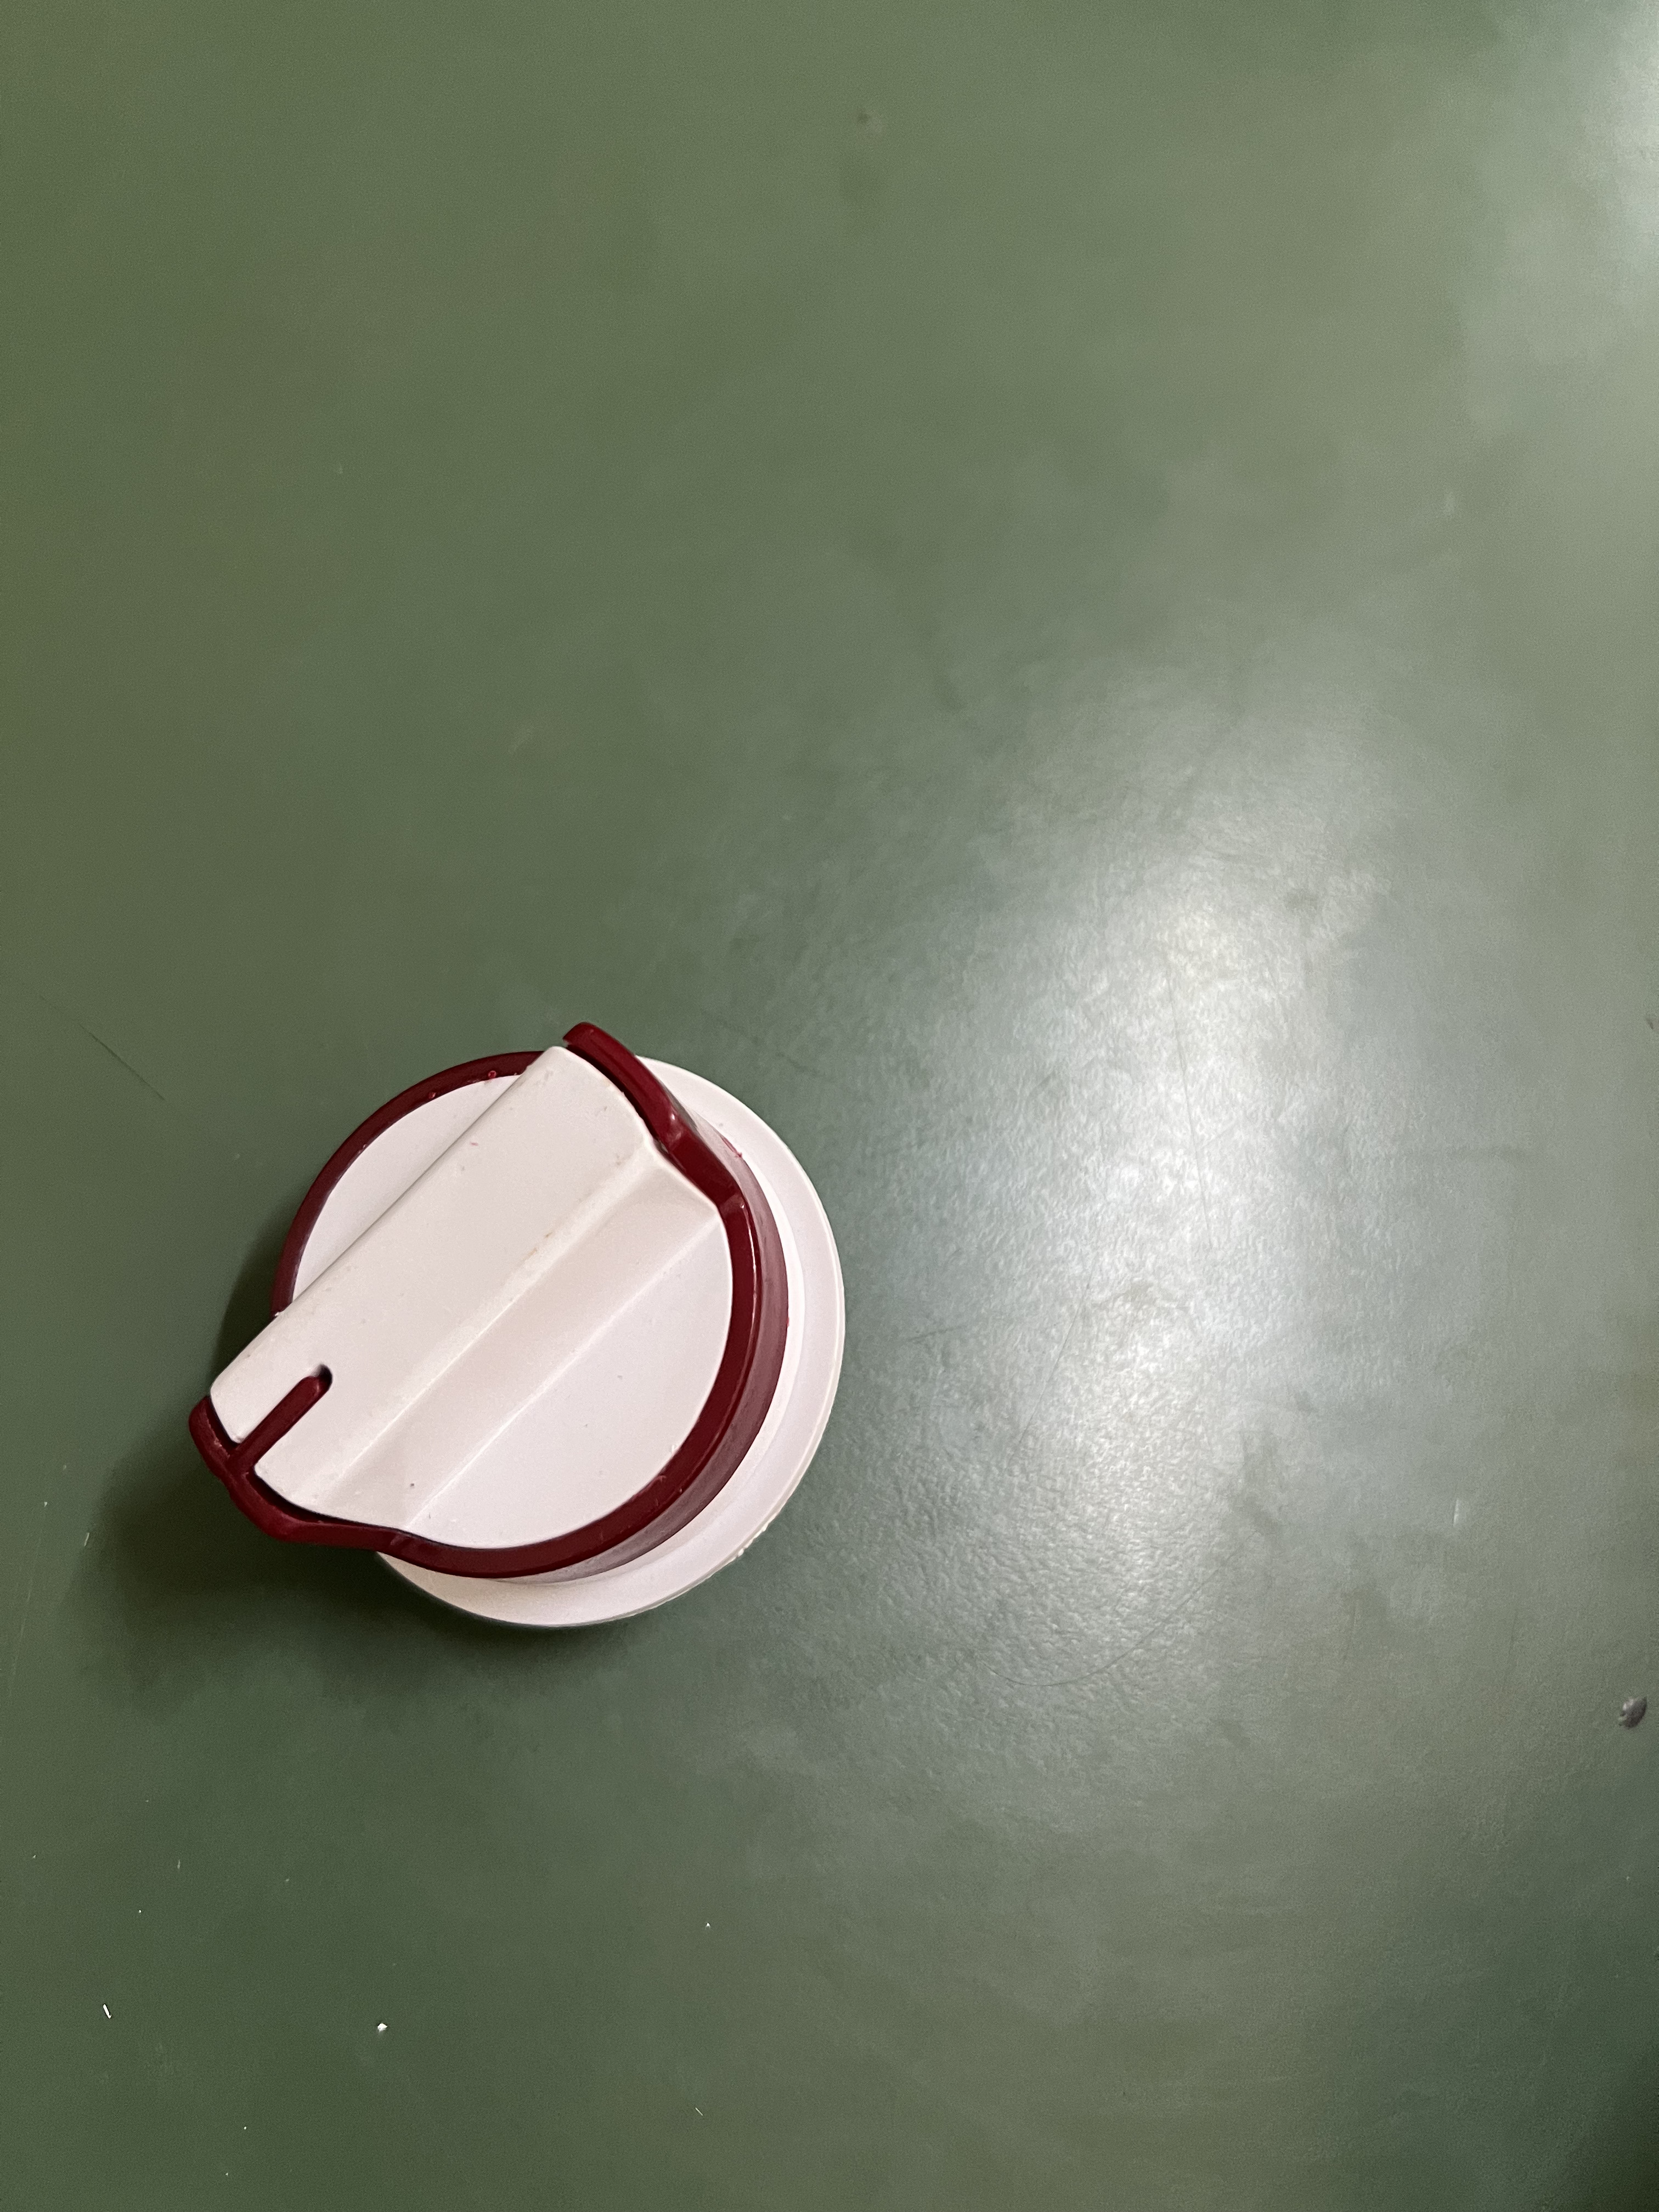regulator: (188, 1000, 863, 1620)
